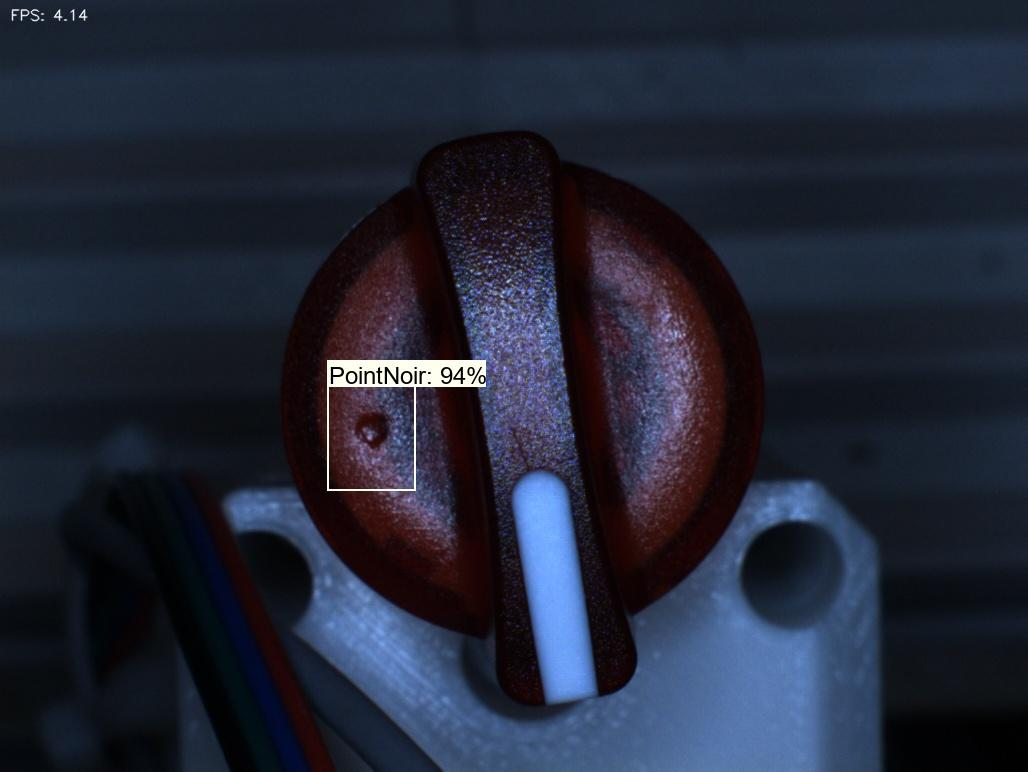Choc: (337, 396, 413, 475)
